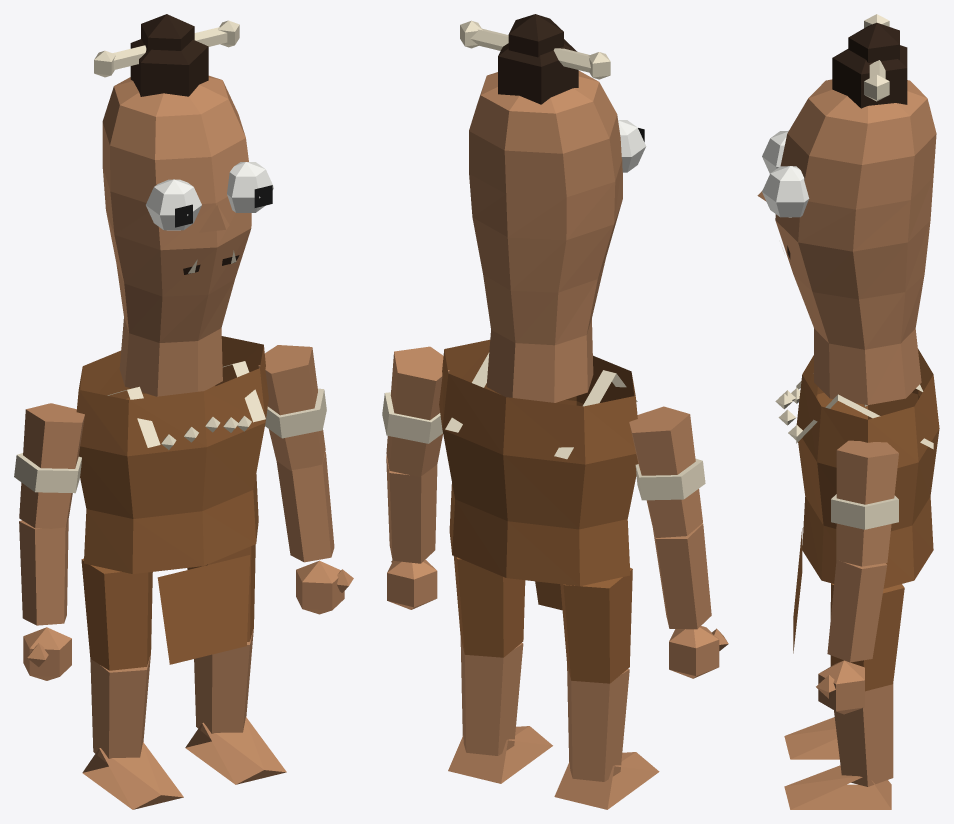
Rendered from caveman.obj.
3 views of the same model, side by side, from view 1: azimuth 30°, elevation 25°; view 2: azimuth 150°, elevation 25°; view 3: azimuth 270°, elevation 25° (orthographic). The views are drawn at different scales.
Parts seen in each view (by area): view 1: HowToFishCaveman; view 2: HowToFishCaveman; view 3: HowToFishCaveman.
Boxes of the visible parts, left/top/right/bottom form: HowToFishCaveman: left=14, top=14, right=353, bottom=809; HowToFishCaveman: left=382, top=14, right=728, bottom=809; HowToFishCaveman: left=757, top=14, right=939, bottom=809.
Bounding box in the file's own units: 1.27 × 2.77 × 0.61.
